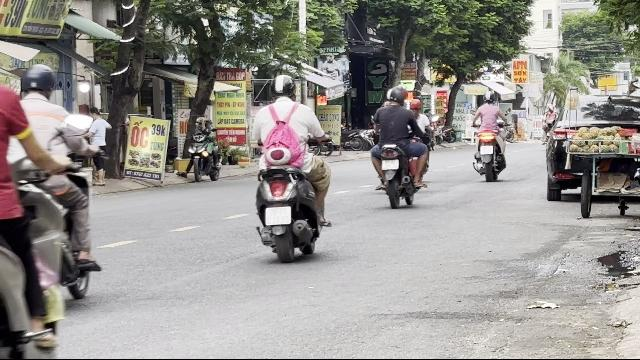helmet: (18, 64, 56, 99), (271, 74, 295, 100), (386, 86, 406, 105)
licenseplate: (266, 206, 290, 226), (382, 160, 398, 170)
motorcyclist: (11, 59, 101, 314), (249, 72, 333, 264), (368, 85, 429, 207)
